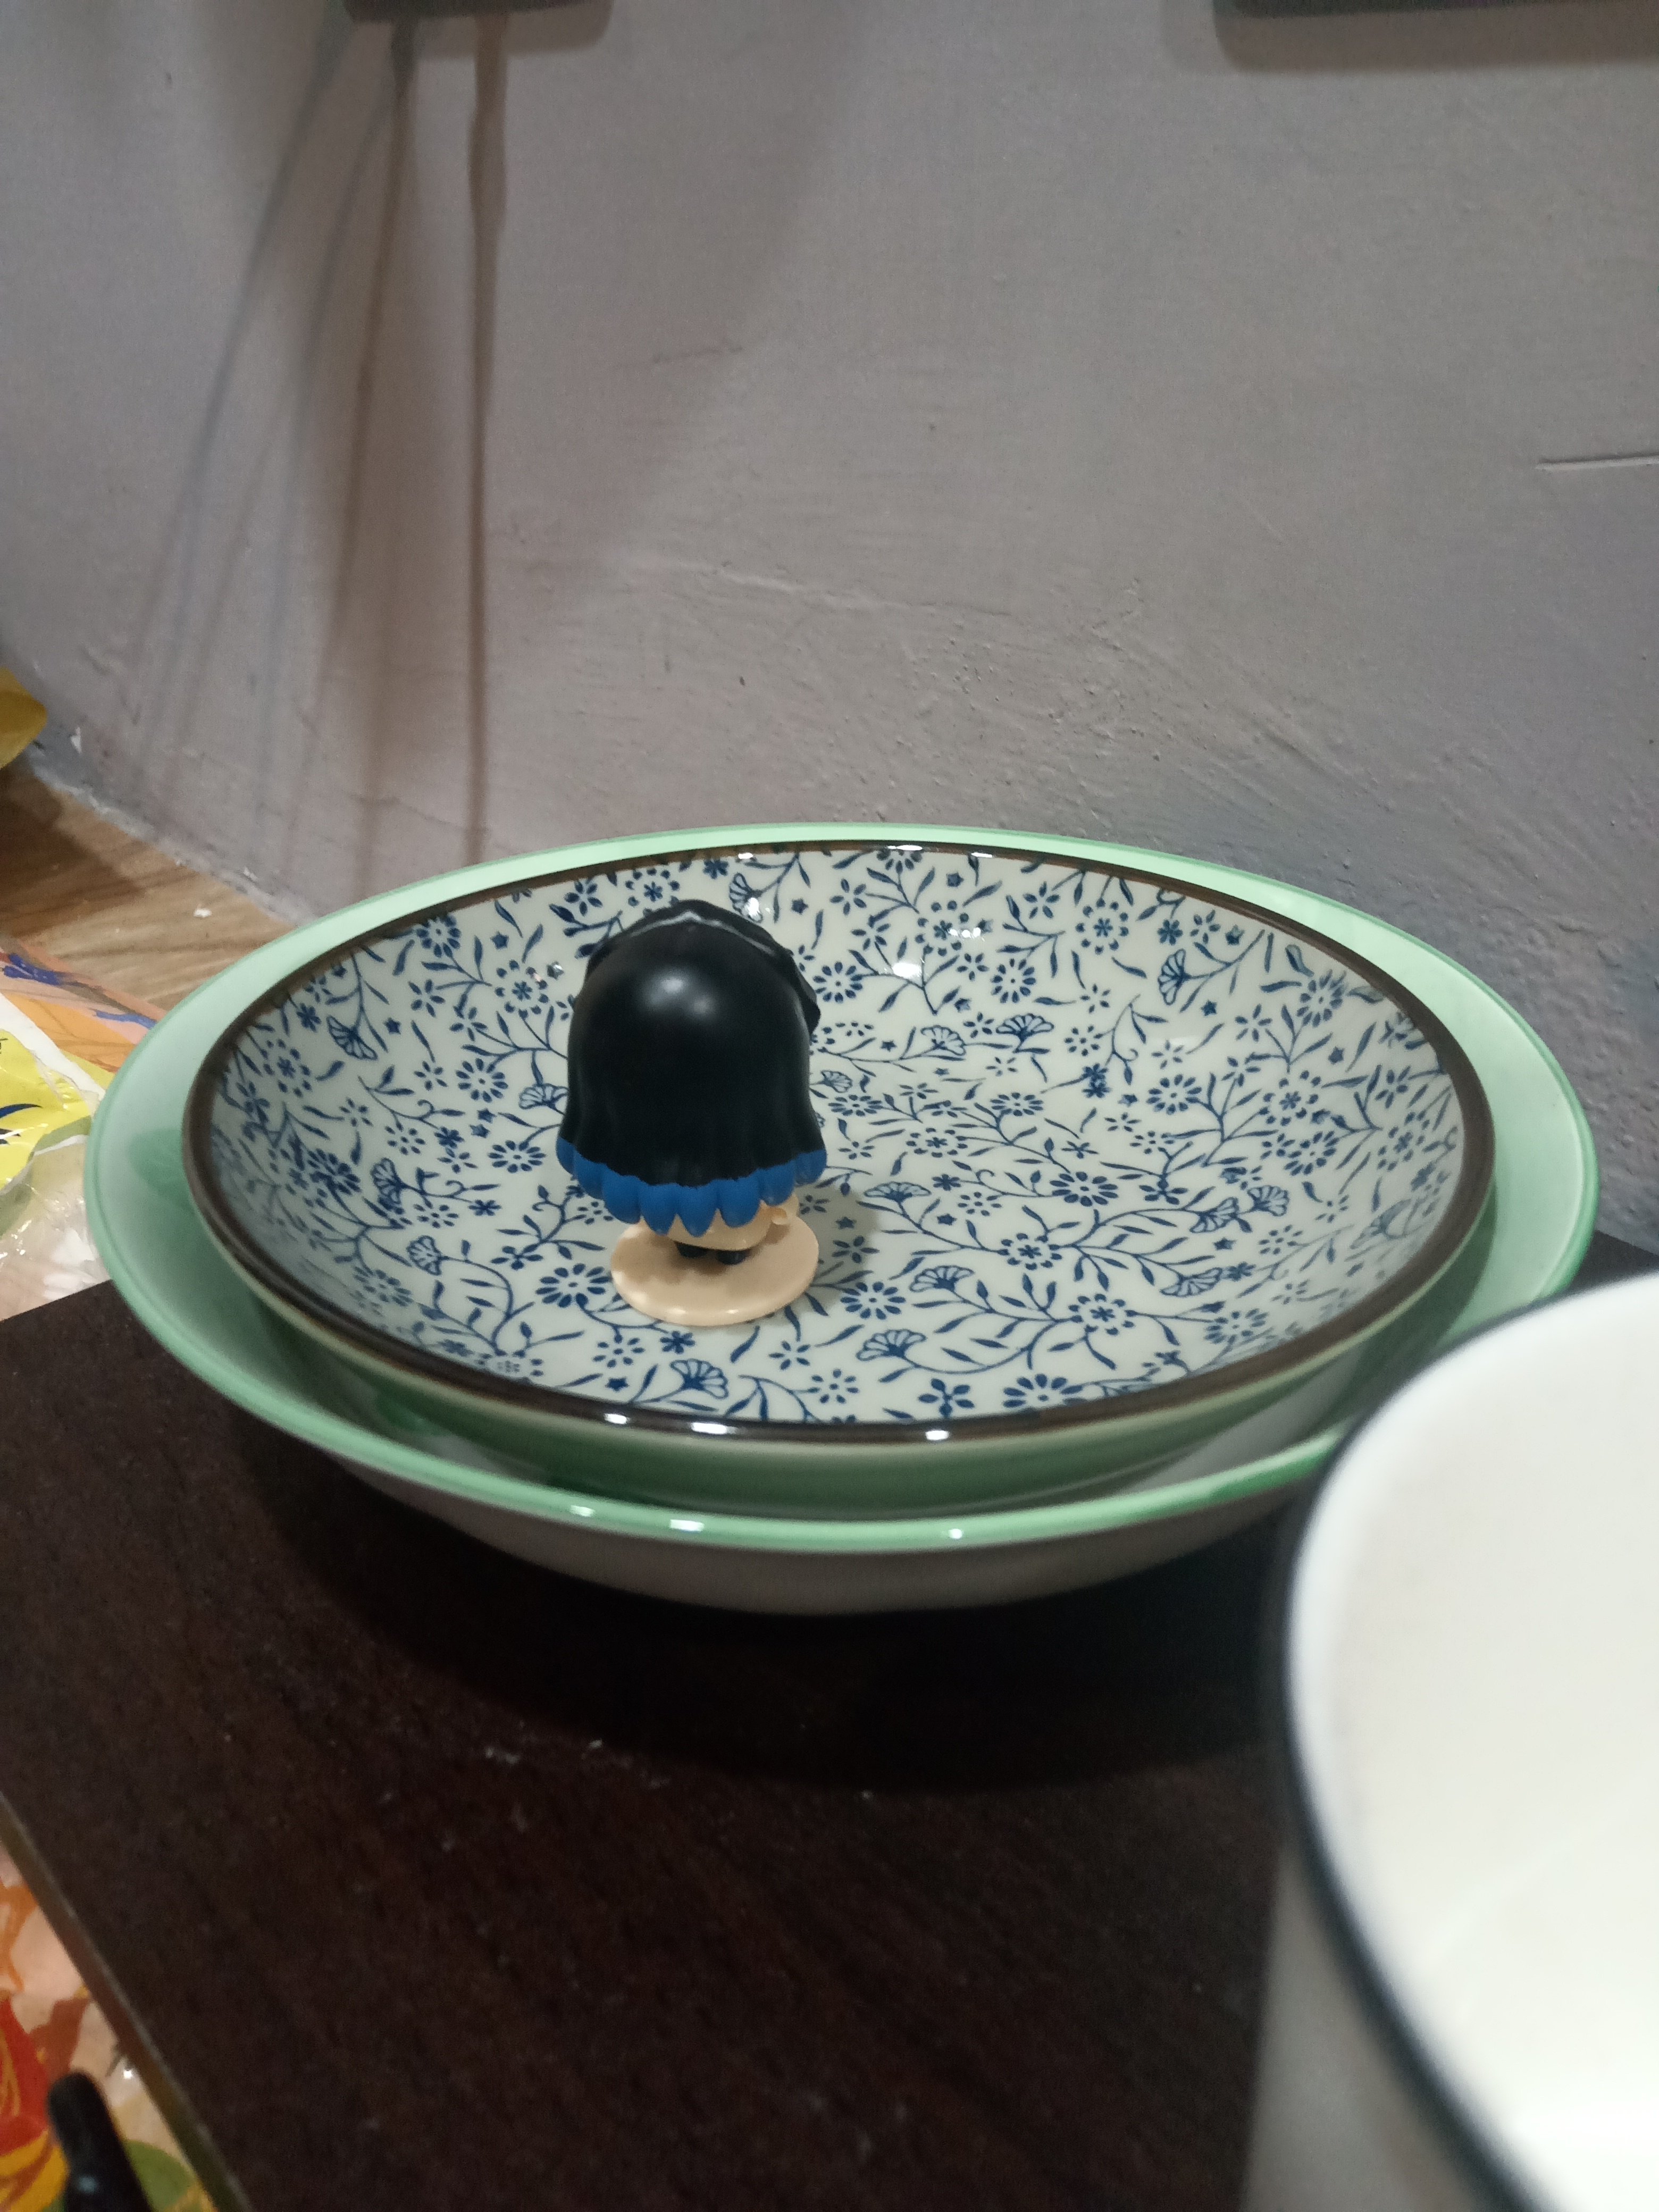Inosuke: (519, 878, 904, 1355)
